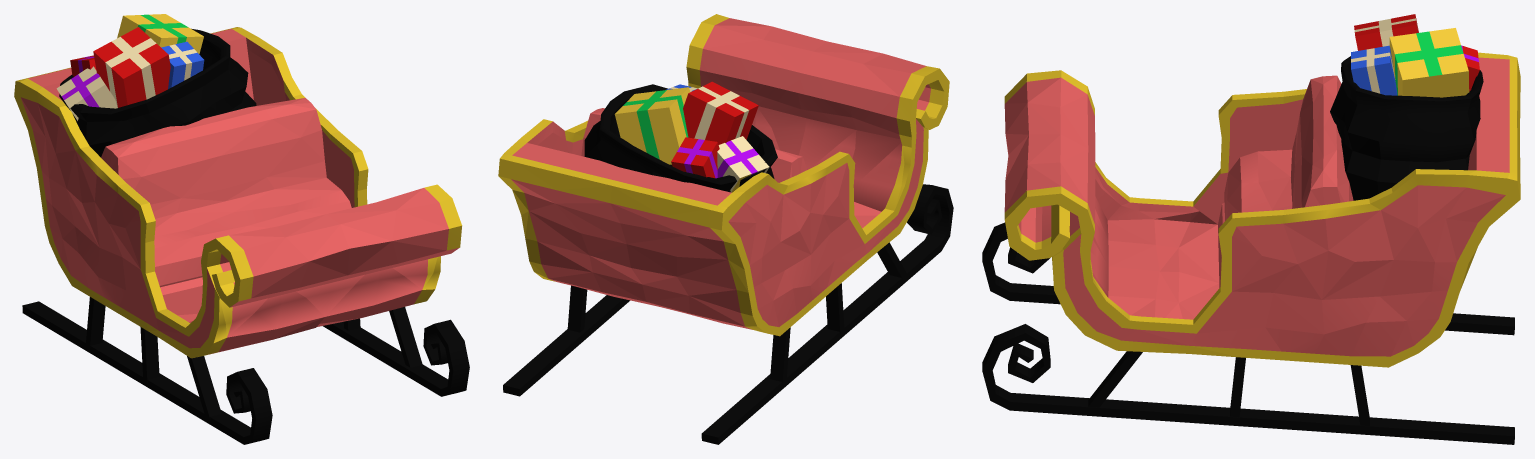
Rendered from carriage.fbx.
The picture shows the model from 3 angles, left to right: view 1: azimuth 30°, elevation 25°; view 2: azimuth 150°, elevation 25°; view 3: azimuth 270°, elevation 25°; orthographic projection. The views are drawn at different scales.
Parts seen in each view (by area): view 1: Santa_Claus_carriage; view 2: Santa_Claus_carriage; view 3: Santa_Claus_carriage.
Boxes of the visible parts, bbox=[...] form: Santa_Claus_carriage: bbox=[14, 14, 469, 444]; Santa_Claus_carriage: bbox=[498, 14, 953, 444]; Santa_Claus_carriage: bbox=[982, 14, 1520, 444].
Bounding box in the file's own units: 125 × 155 × 222.
4 materials, 1 textured.
